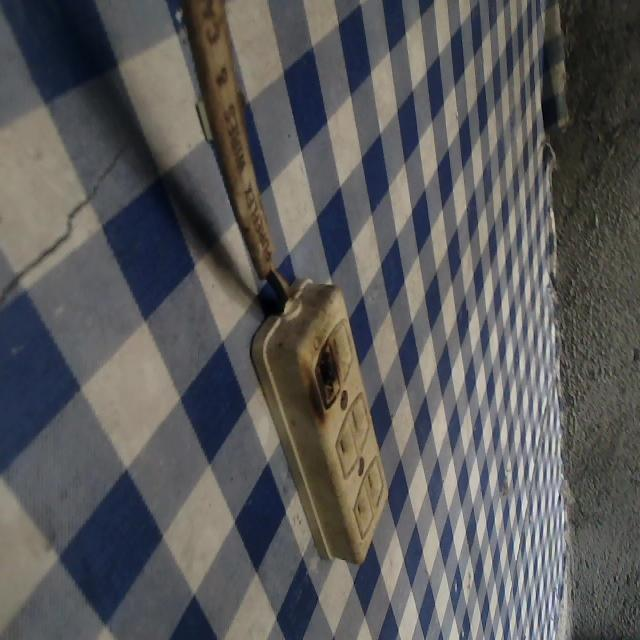-: (307, 336, 348, 409)
